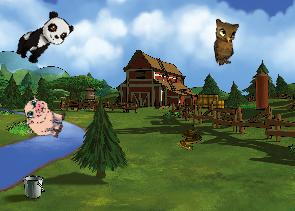owl: (210, 16, 244, 66)
panda: (10, 7, 76, 70)
pig: (18, 94, 69, 142)
